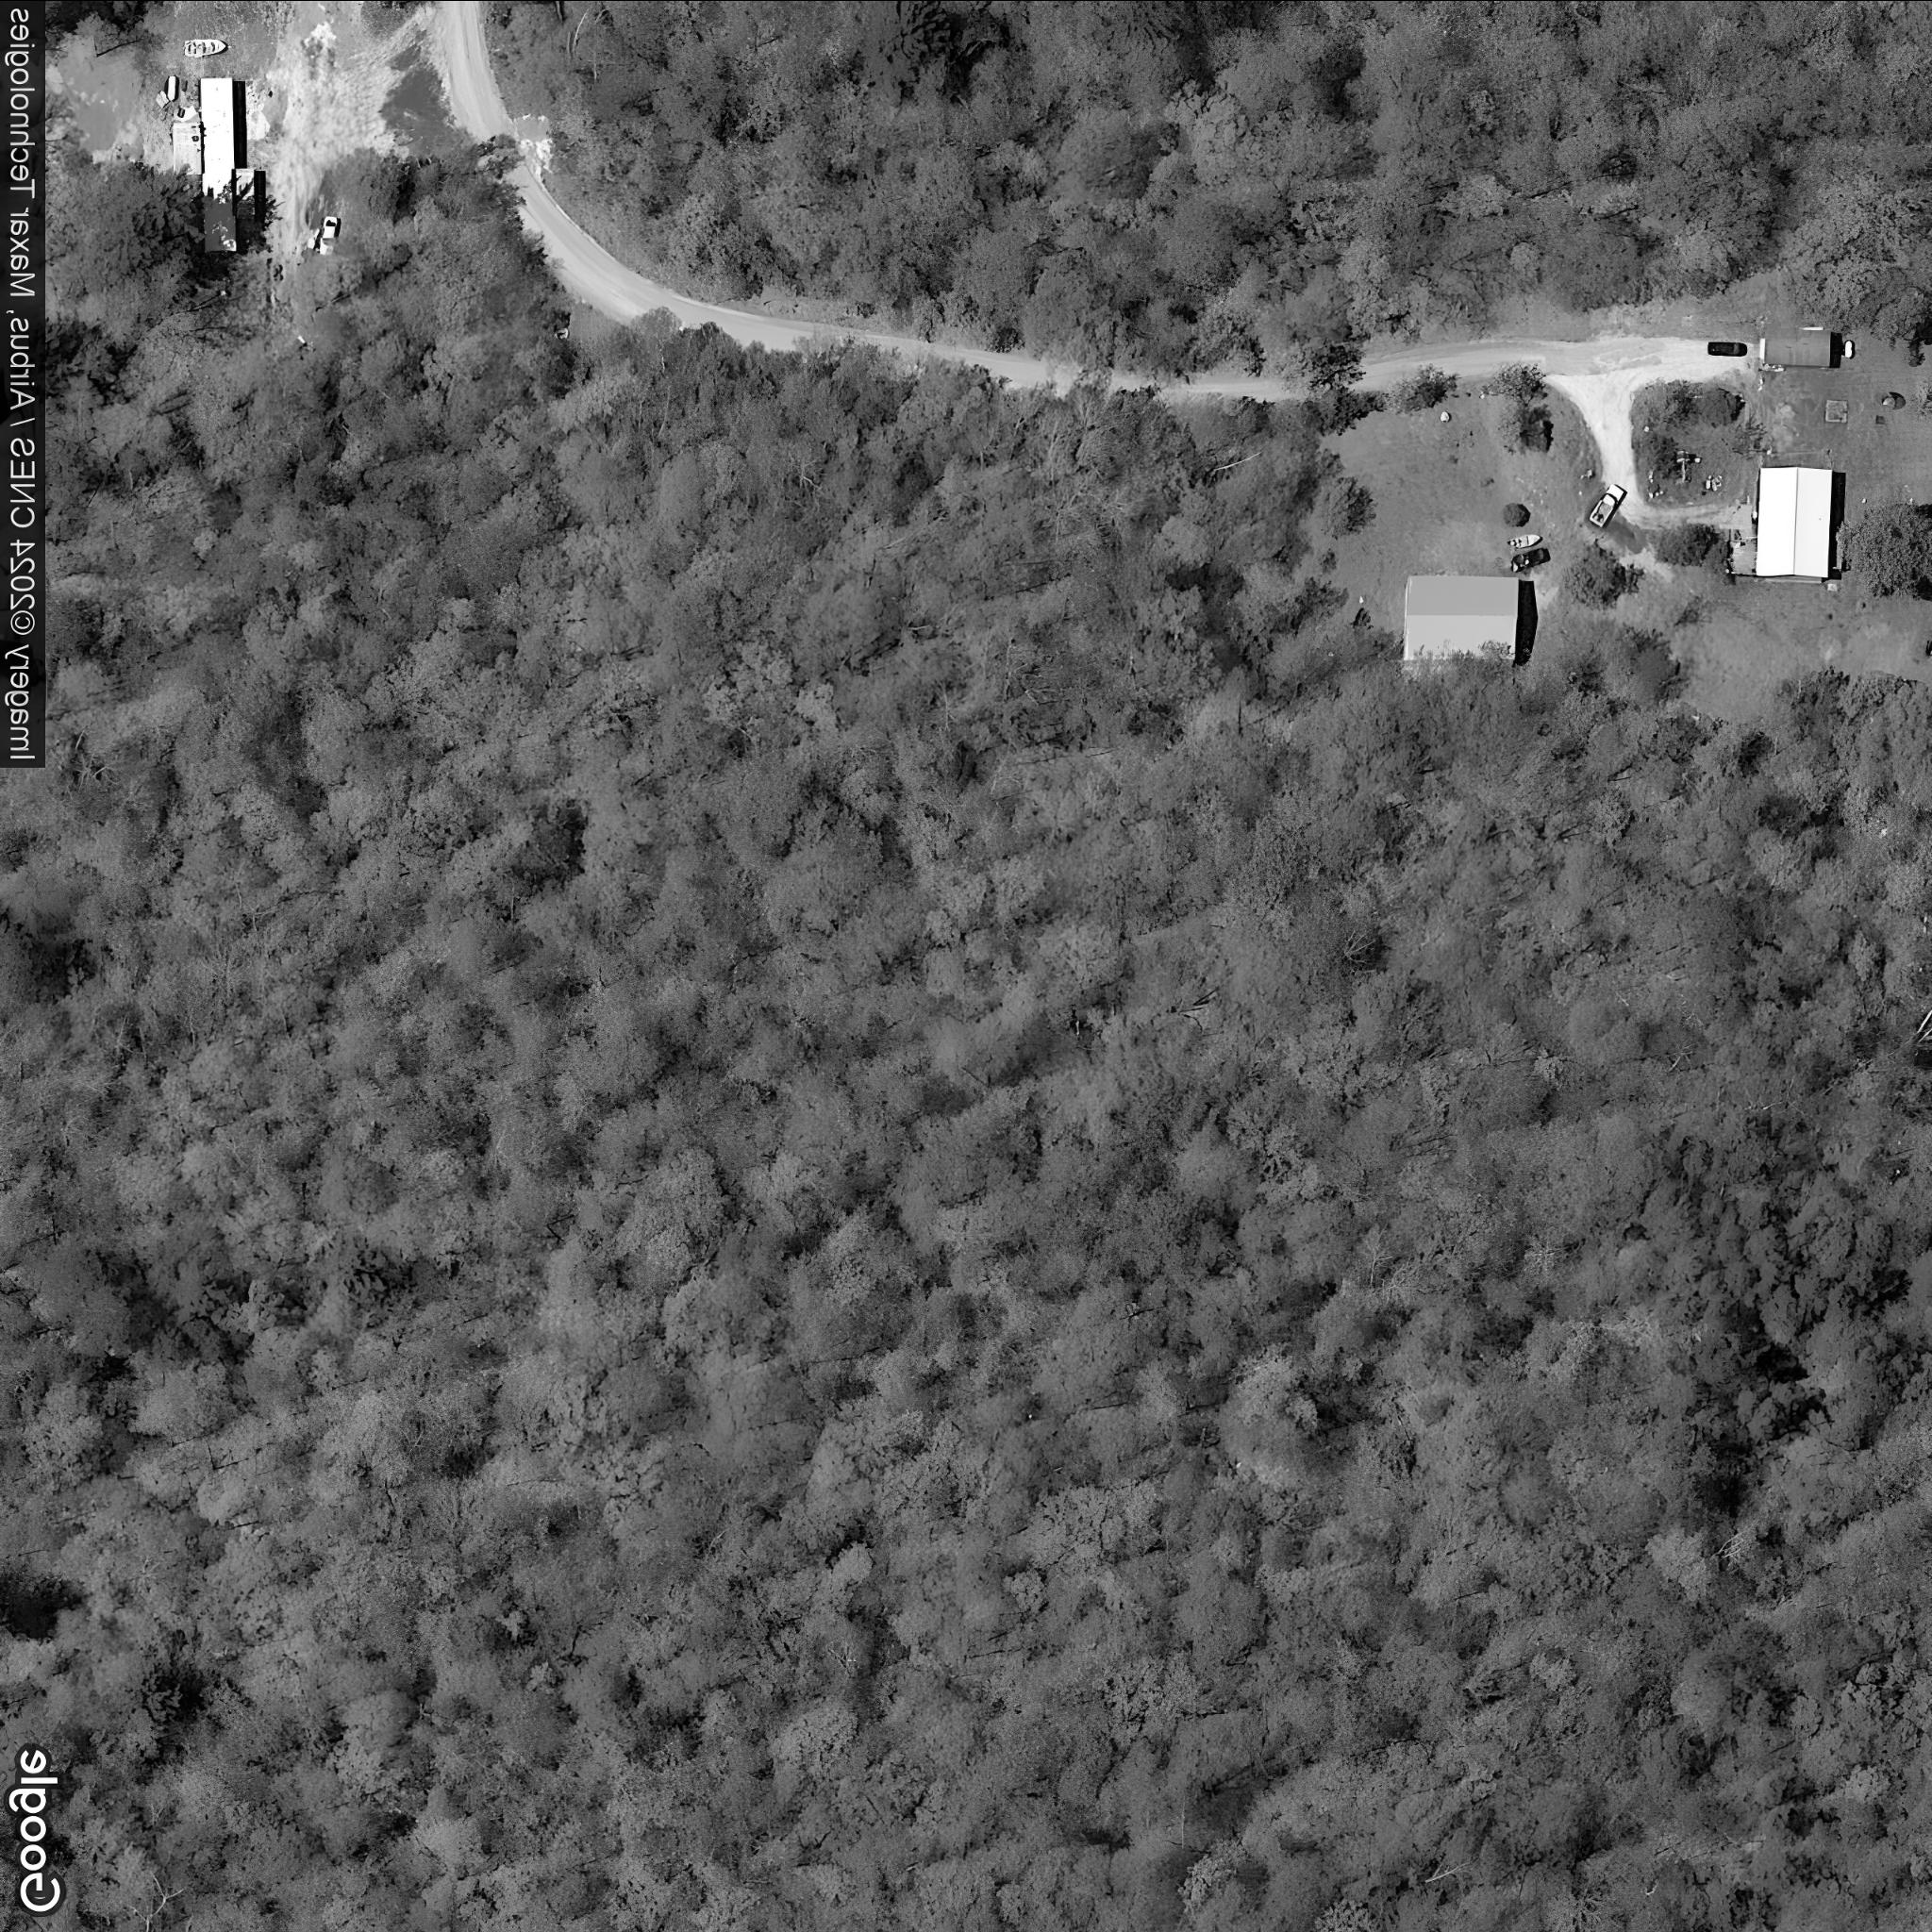Garage: (1405, 575, 1518, 662), (1762, 326, 1831, 366)
House: (1755, 465, 1833, 579)
Propane: (165, 73, 180, 103), (1844, 338, 1856, 361)
Trailer: (173, 74, 257, 251)
